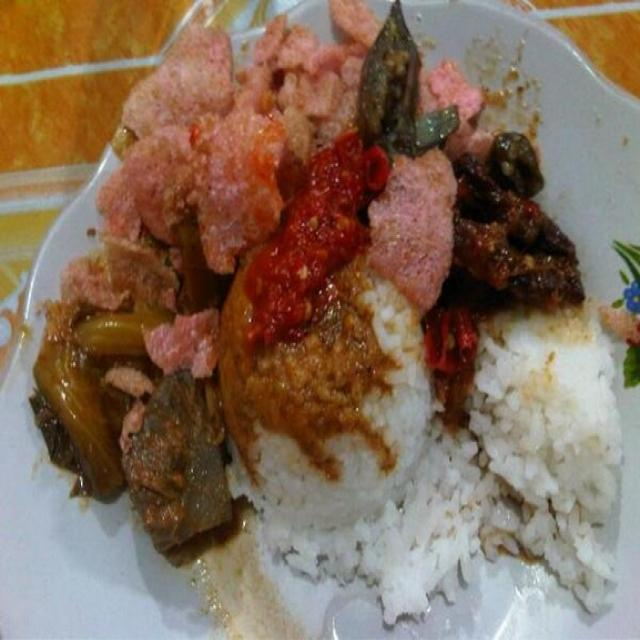米饭主食: (6, 8, 634, 628)
